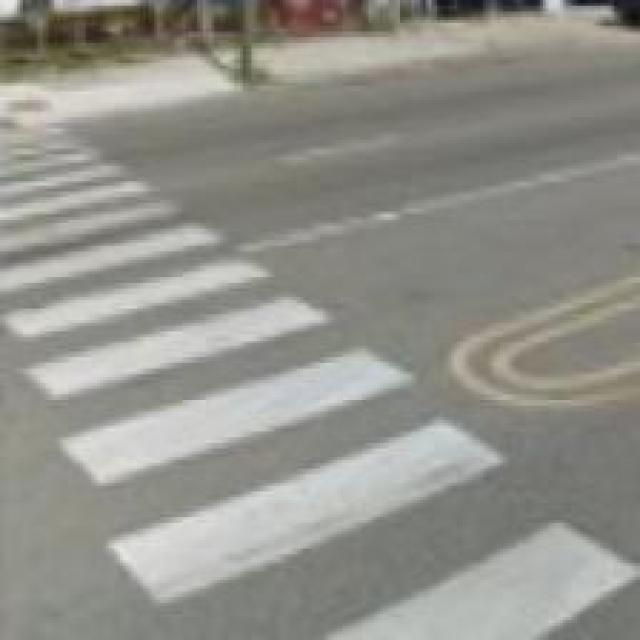walk-crossing: (2, 104, 609, 640)
